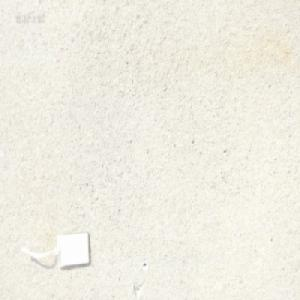LuggageTag: (18, 229, 92, 271)
